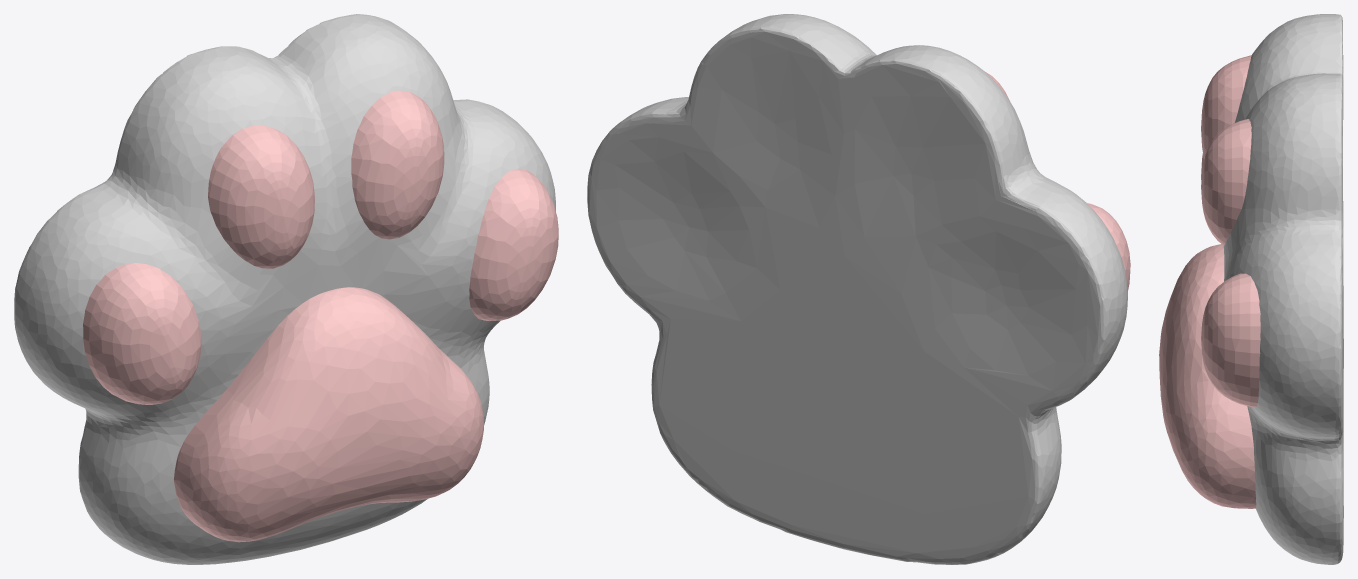
The model's file is cat_paw.glb.
3 views of the same model, side by side, from view 1: azimuth 30°, elevation 25°; view 2: azimuth 150°, elevation 25°; view 3: azimuth 270°, elevation 25° (orthographic). The views are drawn at different scales.
Visible parts, largest first — view 1: Circle.202, Plane.001, Plane.297; view 2: Circle.202, Plane.297; view 3: Circle.202, Plane.001, Plane.297.
Part boxes in pixels (left/top/right/bottom): Circle.202: left=14, top=14, right=555, bottom=564; Plane.001: left=174, top=287, right=483, bottom=542; Plane.297: left=83, top=90, right=558, bottom=404; Circle.202: left=587, top=14, right=1127, bottom=564; Plane.297: left=985, top=72, right=1130, bottom=291; Circle.202: left=1223, top=14, right=1343, bottom=564; Plane.001: left=1159, top=244, right=1256, bottom=508; Plane.297: left=1201, top=55, right=1260, bottom=407.
Bounding box in the file's own units: 15.27 × 14.18 × 5.04.
